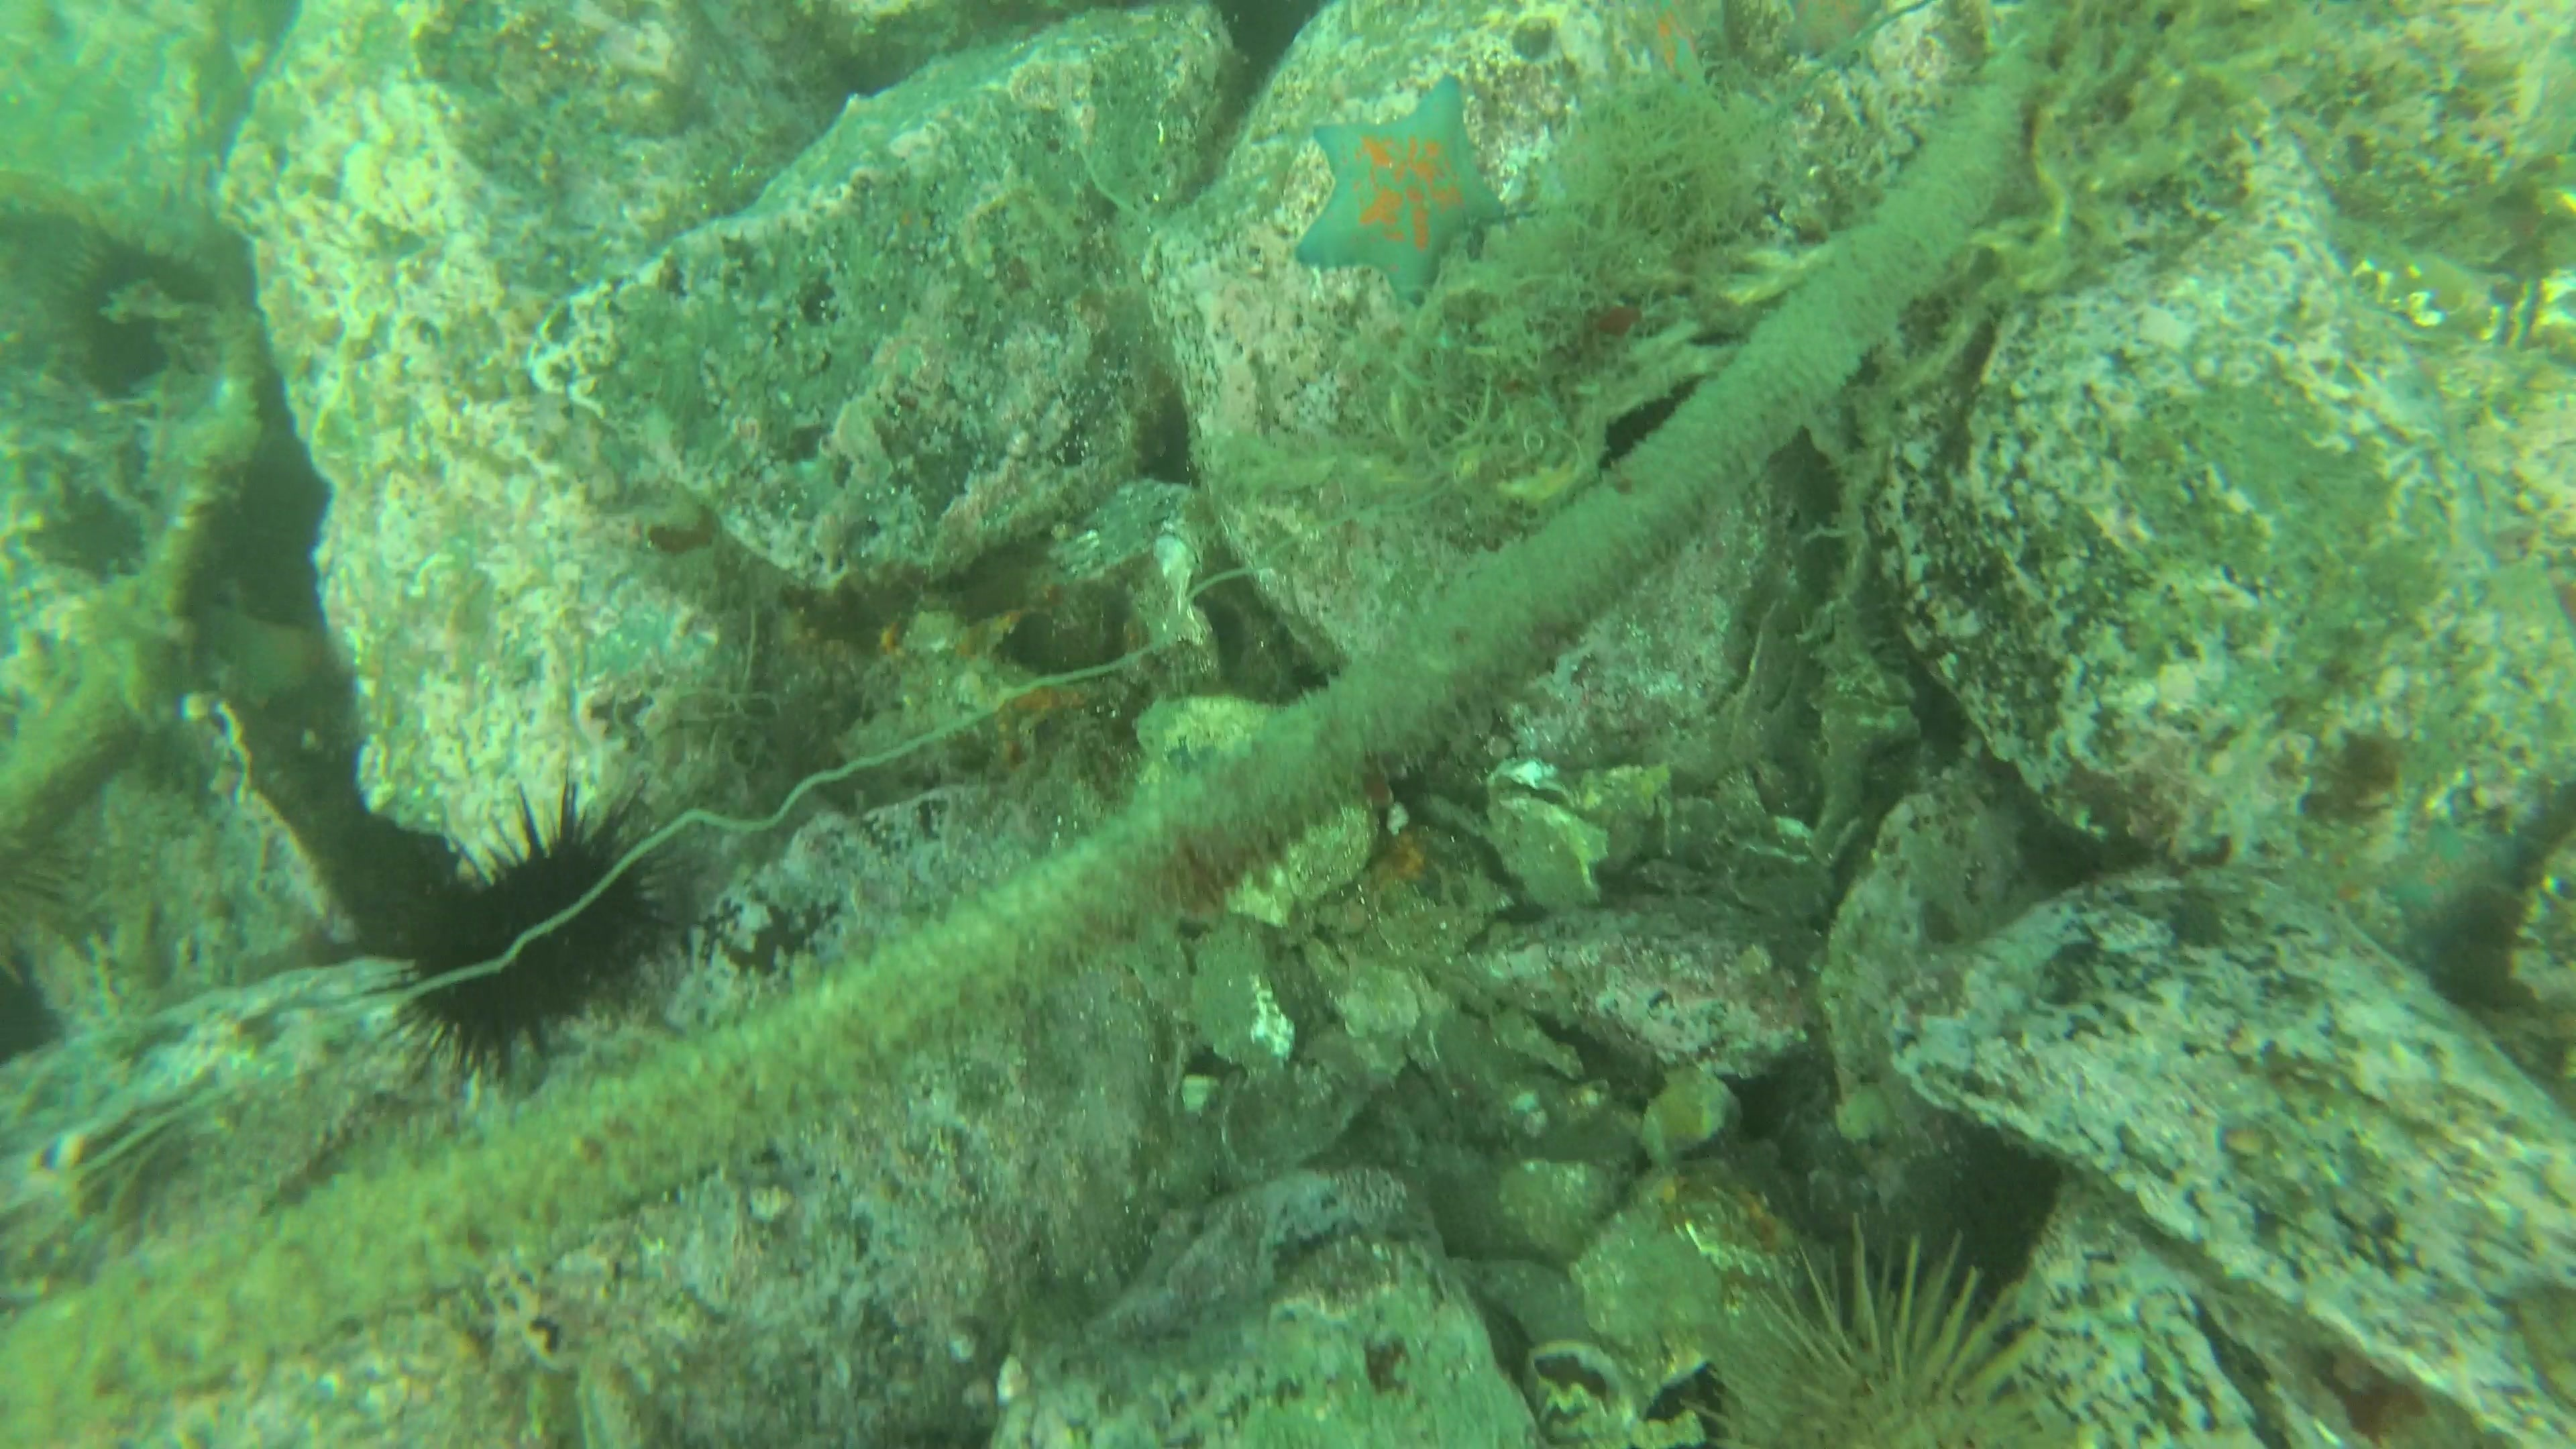echinus: (373, 775, 702, 1085), (1693, 1226, 2070, 1438), (48, 226, 225, 398)
starfish: (1284, 76, 1513, 306), (2371, 800, 2534, 947), (1612, 0, 1721, 90), (1766, 0, 1898, 74)
